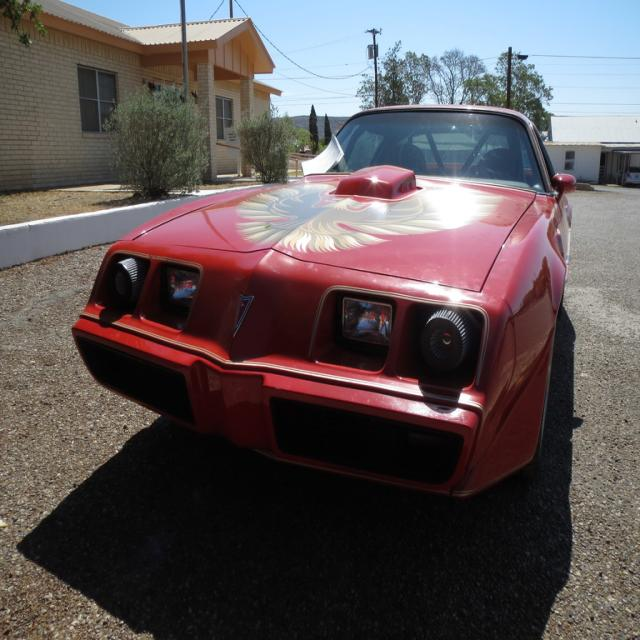car: (70, 109, 574, 499)
